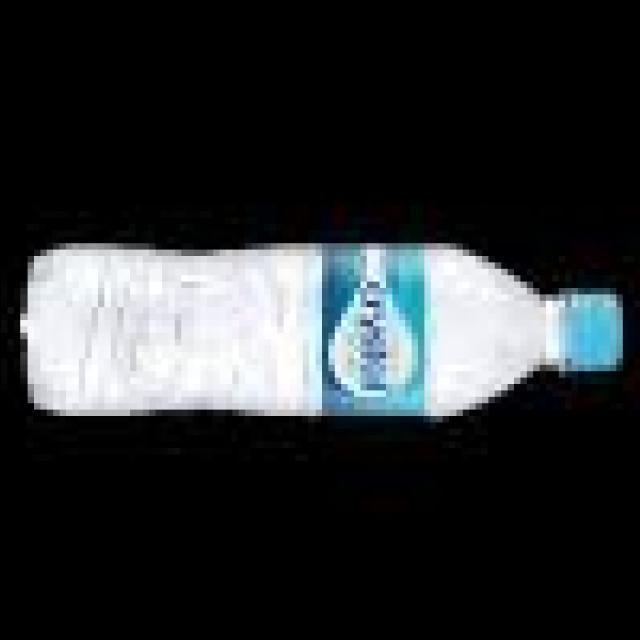bottle: (23, 244, 621, 416)
